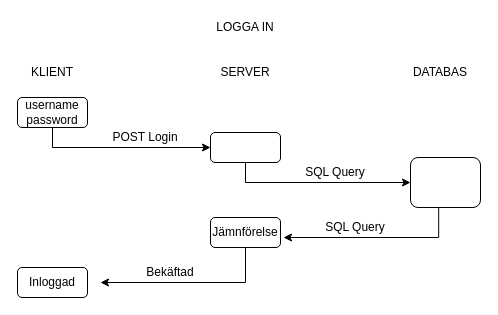
The diagram is 498 pixels wide and 315 high, and some of its shapes have lost their labels. Each missing label, with the centre of its shape:
Databas username password: the point at 445,182
Hämta info: the point at 245,147
